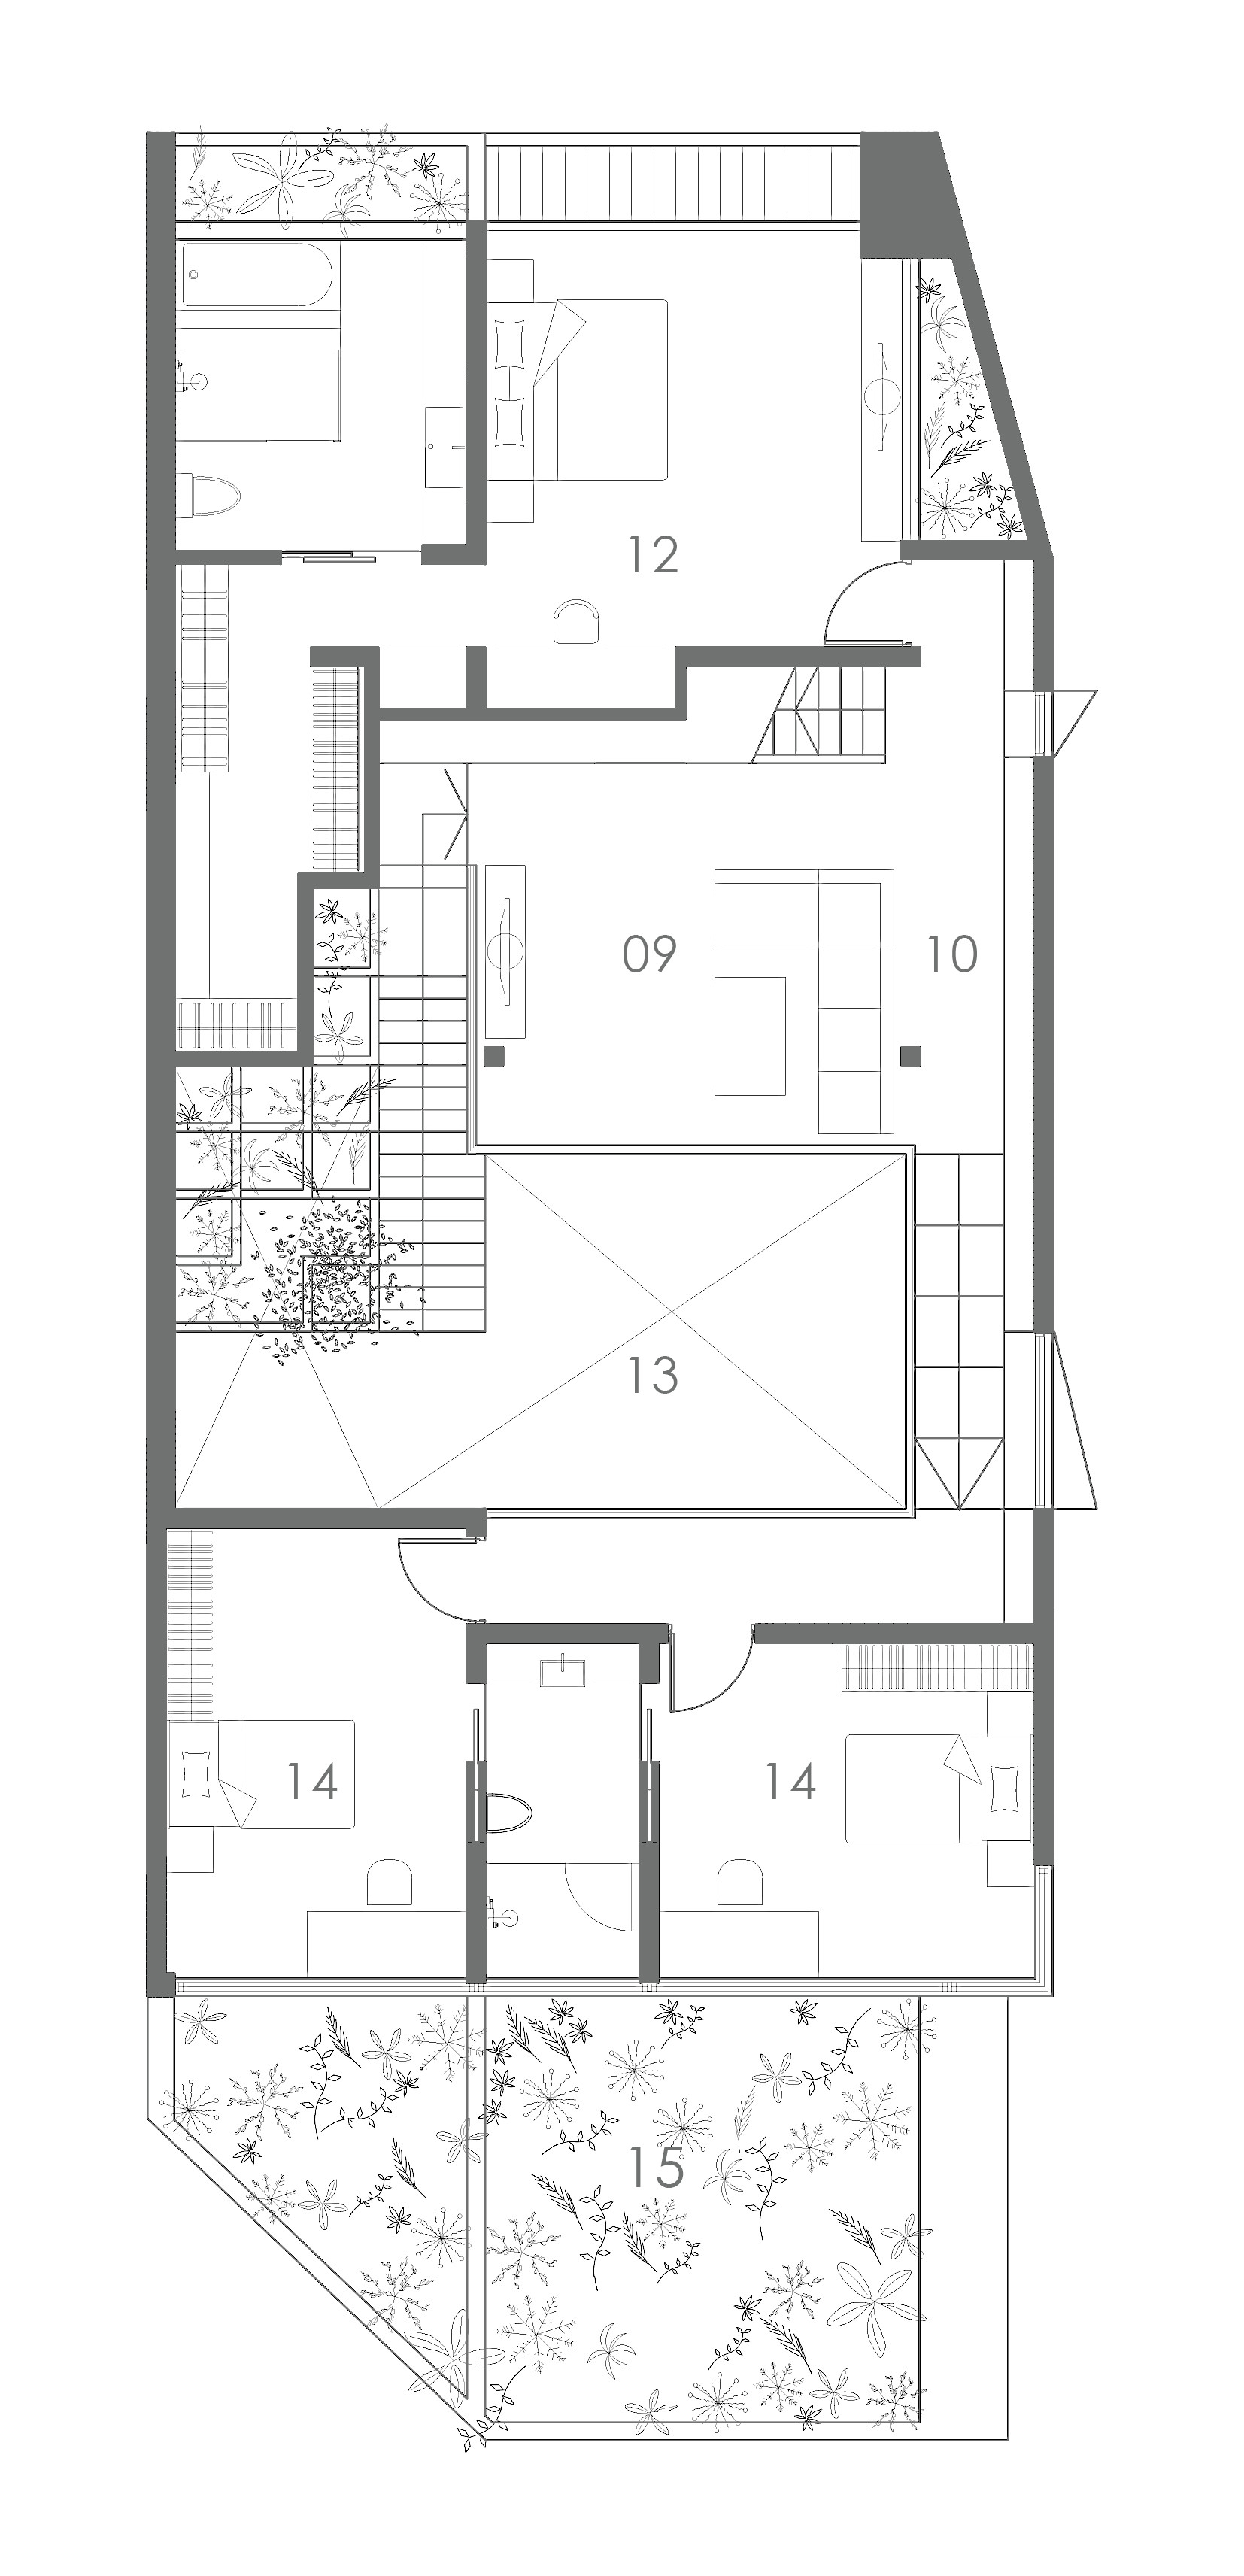wall: (146, 128, 173, 1998), (1032, 752, 1057, 1332), (458, 214, 495, 560), (168, 1506, 488, 1533), (1032, 1505, 1055, 1868), (751, 1621, 1034, 1649), (674, 637, 917, 667), (375, 705, 675, 726), (633, 1769, 664, 1973), (1029, 557, 1060, 693), (293, 864, 314, 1061), (368, 651, 386, 882), (897, 537, 1047, 563), (467, 1630, 669, 1648), (463, 1764, 480, 1985), (297, 869, 401, 900), (173, 542, 284, 565), (150, 1051, 311, 1066), (467, 646, 491, 716), (427, 539, 491, 565), (463, 1630, 491, 1684), (314, 641, 383, 660), (667, 641, 687, 708)
